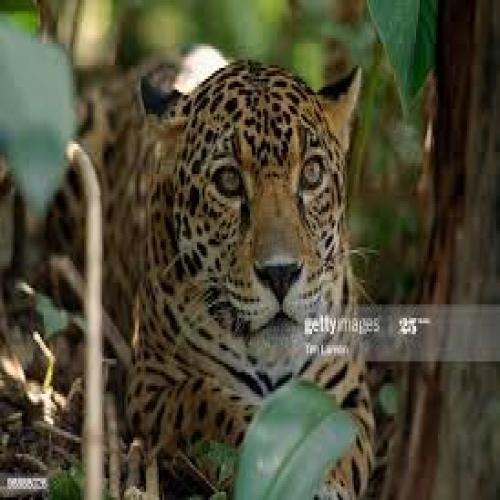jaguar_not-endangered: (46, 56, 378, 497)
